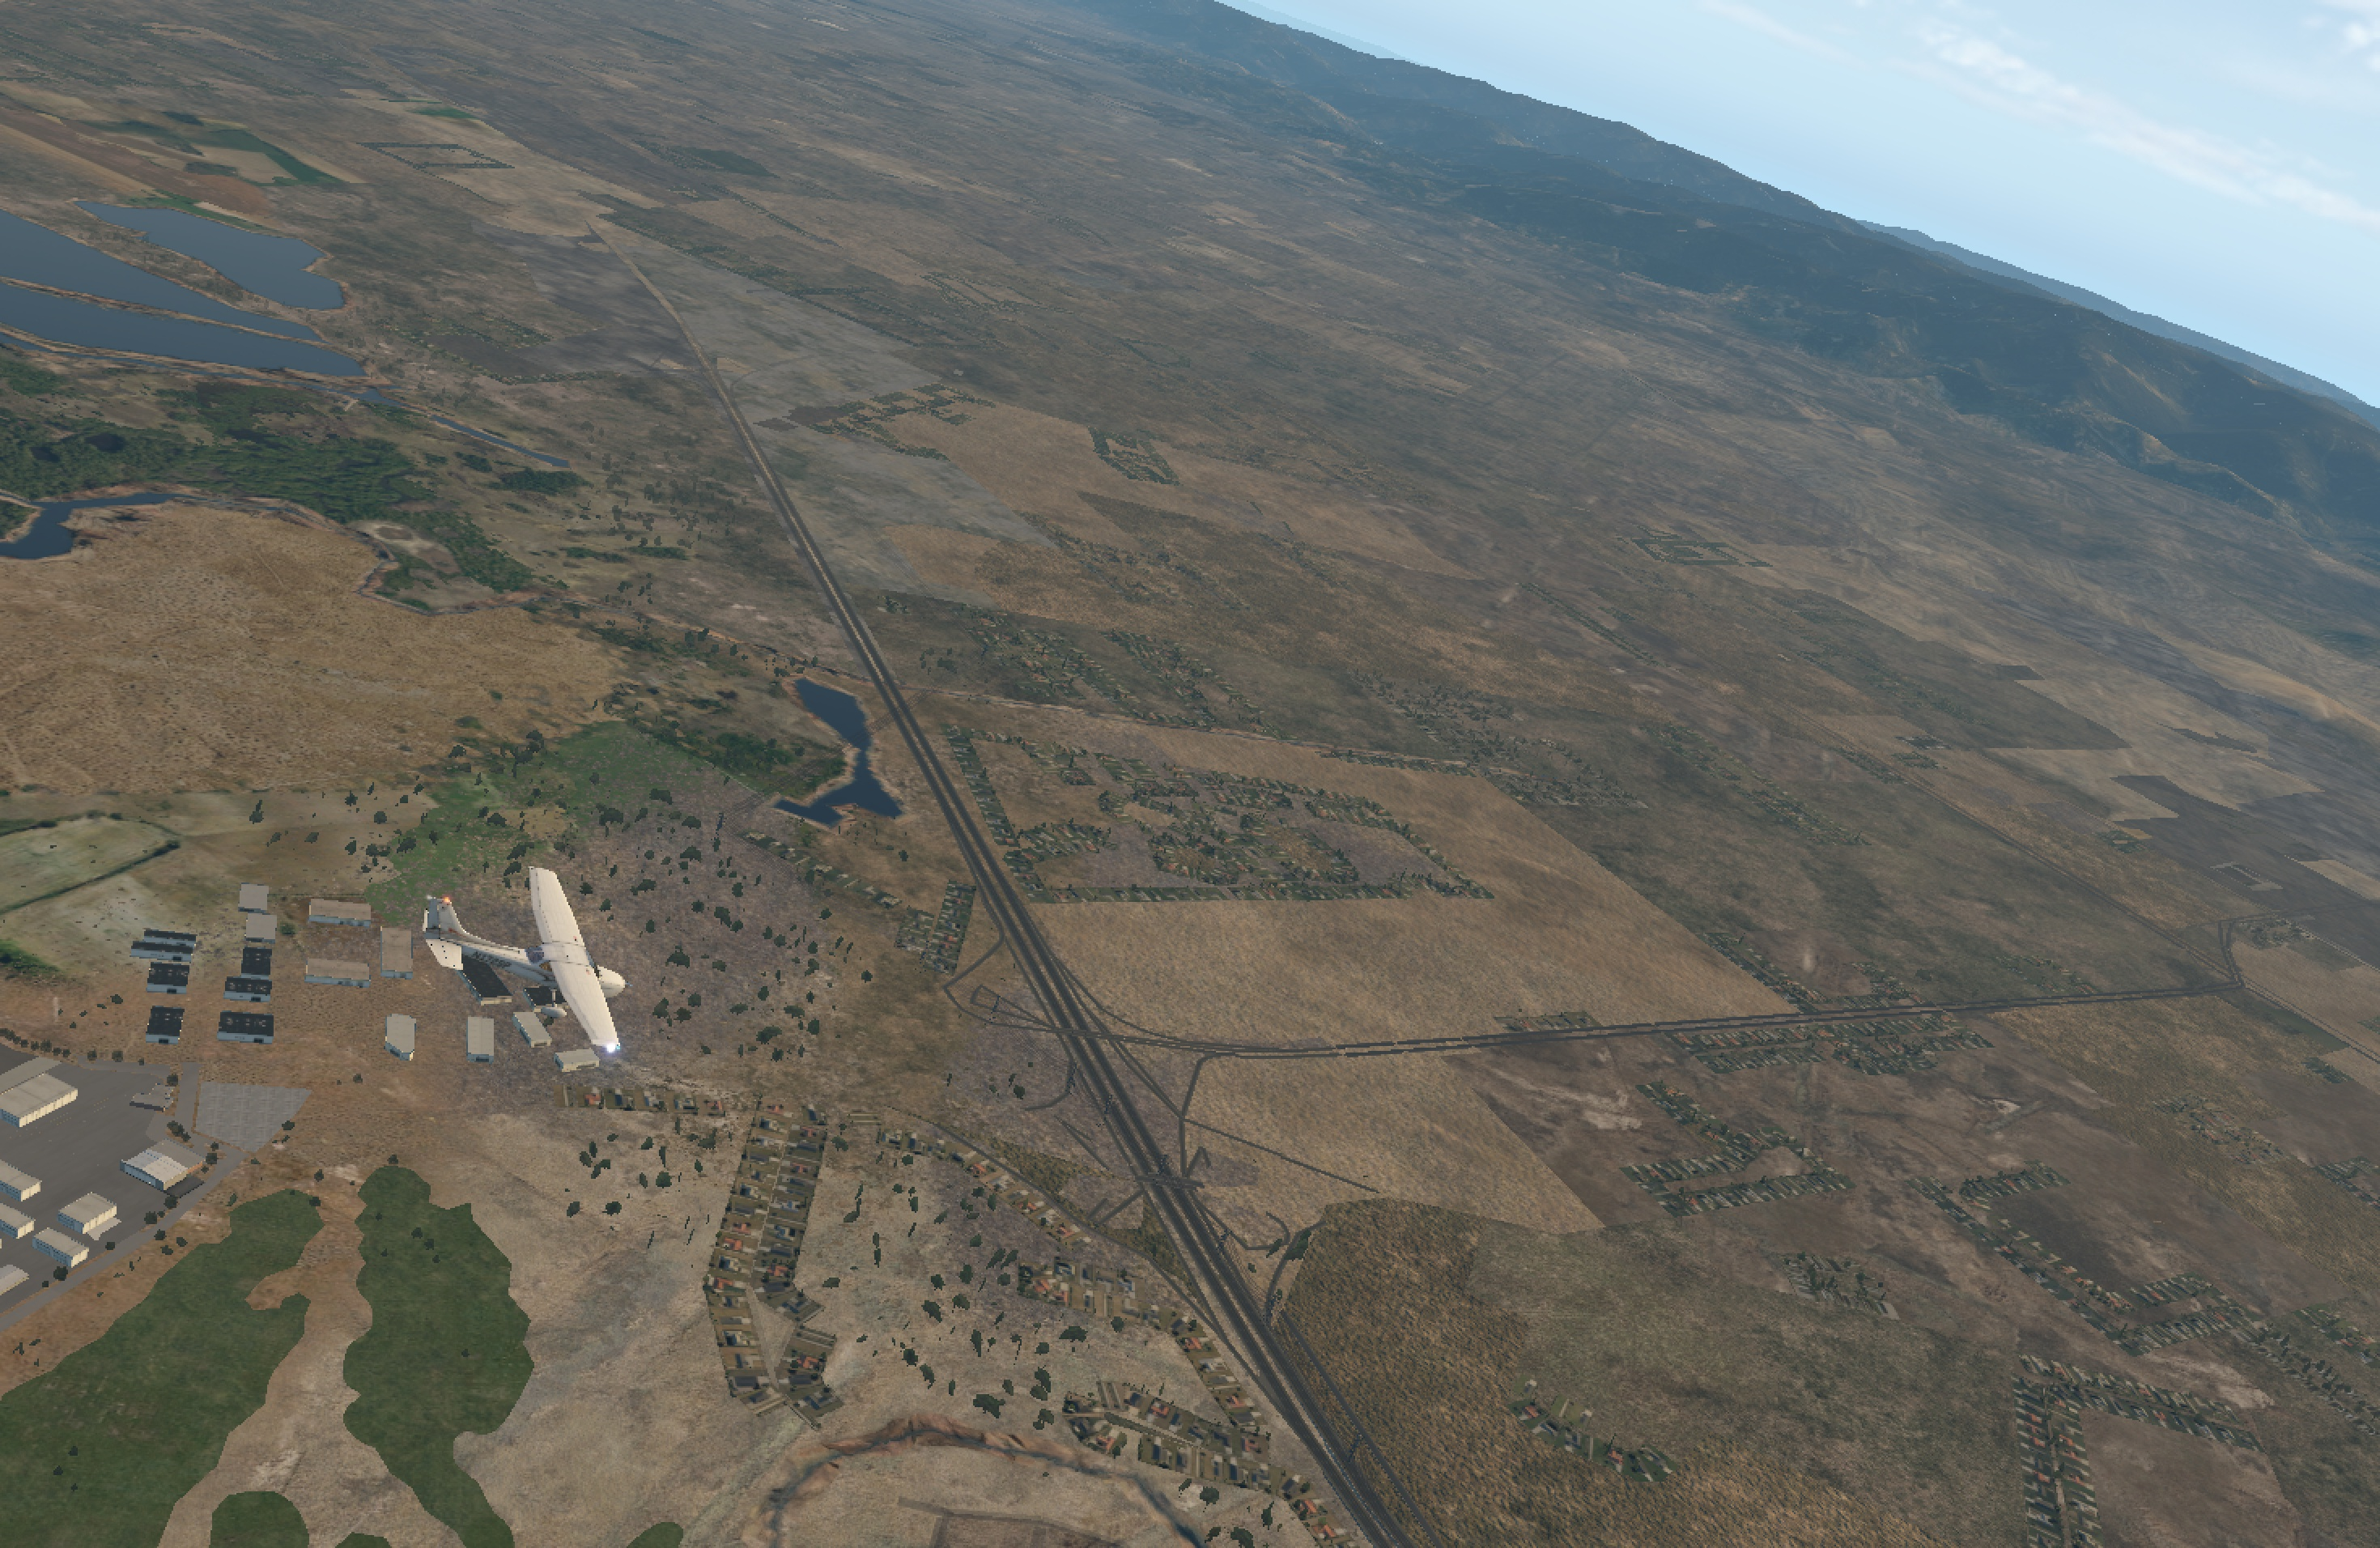aircraft: (463, 930, 677, 1010)
